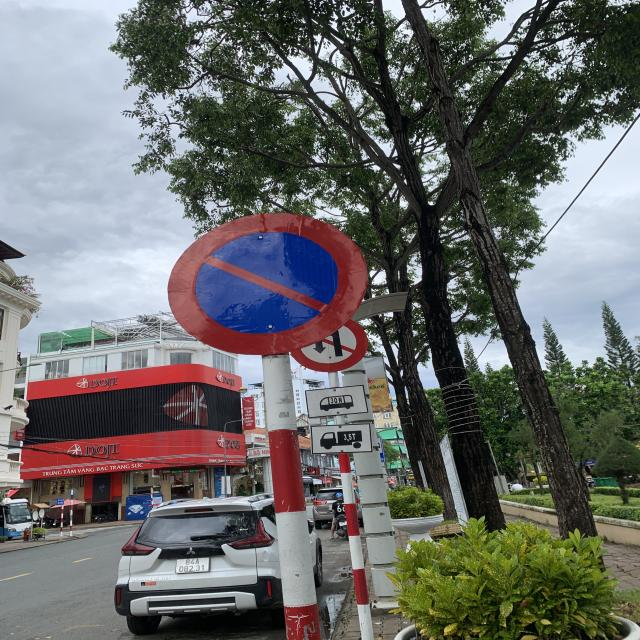Cam_Dau_Xe: (166, 213, 367, 357)
